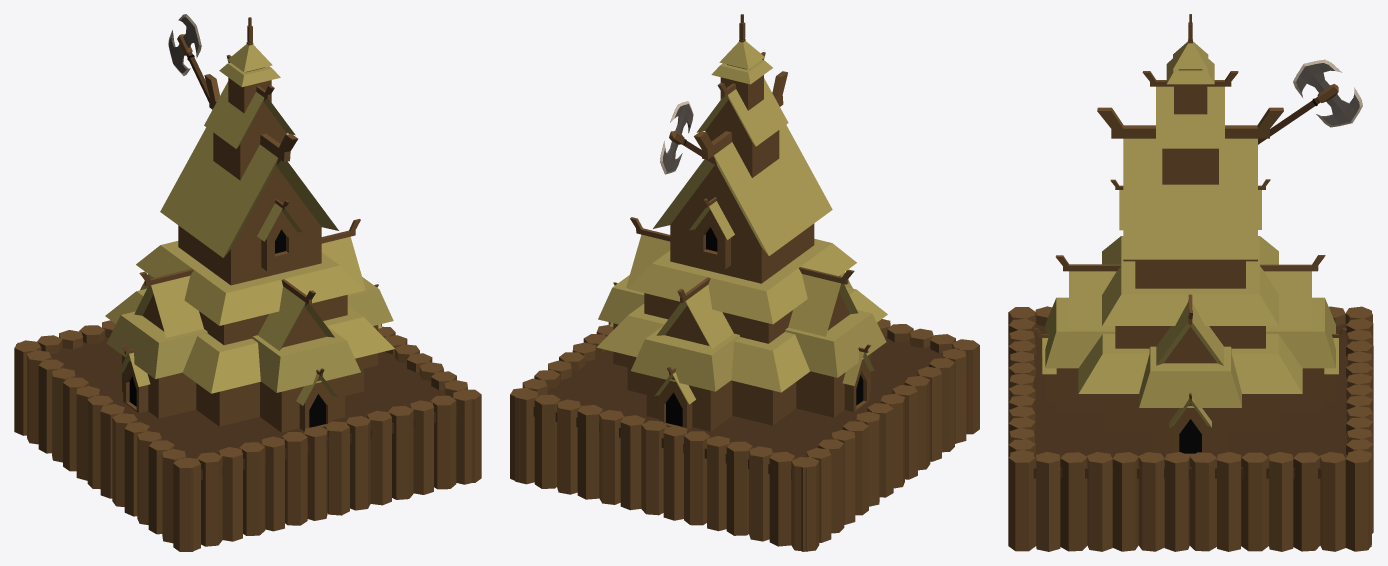
File: BaseHall.glb
3 views of the same model, side by side, from view 1: azimuth 30°, elevation 25°; view 2: azimuth 150°, elevation 25°; view 3: azimuth 270°, elevation 25° (orthographic). The views are drawn at different scales.
Parts seen in each view (by area): view 1: Cylinder.002, Cube.005, Cube.011, Cube, Cube.010, Cube.004, Cube.002, Cube.006, Cube.009, Cube.001, Cube.008, Cube.007 (+2 smaller); view 2: Cylinder.002, Cube.005, Cube.012, Cube, Cube.010, Cube.004, Cube.002, Cube.006, Cube.009, Cube.001, Cube.008, Cube.014 (+2 smaller); view 3: Cylinder.002, Cube.005, Cube.009, Cube, Cube.004, Cube.011, Cube.012, Cube.002, Cube.006, Cube.001, Cube.008, Cube.013 (+1 smaller).
Part boxes in pixels (x1,y1,x2,y2): Cylinder.002: (14, 320, 481, 551); Cube.005: (160, 74, 338, 285); Cube.011: (252, 279, 360, 432); Cube: (50, 337, 457, 479); Cube.010: (106, 268, 207, 418); Cube.004: (136, 241, 363, 325); Cube.002: (105, 288, 394, 393); Cube.006: (204, 55, 295, 180); Cube.009: (321, 219, 393, 368); Cube.001: (196, 356, 363, 426); Cube.008: (219, 17, 280, 113); Cube.007: (257, 199, 302, 271); Cylinder.002: (510, 319, 979, 551); Cube.005: (653, 71, 832, 283); Cube.012: (631, 277, 739, 431); Cube: (533, 336, 942, 478); Cube.010: (785, 267, 886, 417); Cube.004: (627, 238, 856, 324); Cube.002: (596, 287, 887, 392); Cube.006: (696, 52, 788, 177); Cube.009: (598, 217, 670, 367); Cube.001: (627, 355, 796, 425); Cube.008: (711, 14, 772, 110); Cube.014: (689, 197, 734, 269); Cylinder.002: (1008, 306, 1373, 551); Cube.005: (1097, 107, 1283, 288); Cube.009: (1139, 294, 1241, 456); Cube: (1033, 322, 1347, 478); Cube.004: (1102, 236, 1278, 325); Cube.011: (1034, 255, 1121, 411); Cube.012: (1260, 255, 1346, 411); Cube.002: (1078, 334, 1302, 393); Cube.006: (1142, 71, 1238, 184); Cube.001: (1102, 394, 1278, 432); Cube.008: (1166, 14, 1214, 114); Cube.013: (1258, 59, 1362, 144).
Size of the model in its own units: 2.14 by 2.93 by 2.11.
